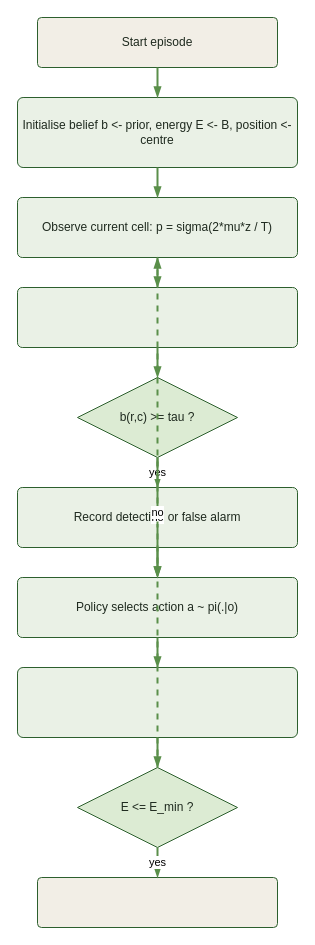
This 315x945 diagram has some shape labels left out. Each missing label, with the box of its shape:
Bayes update b(r,c); record (confidence, correct): (16, 286, 298, 348)
End episode -> report metrics: (36, 876, 278, 928)
Move; E <- E - (e_hover + e_trans*d); accumulate reward r: (16, 666, 298, 738)
